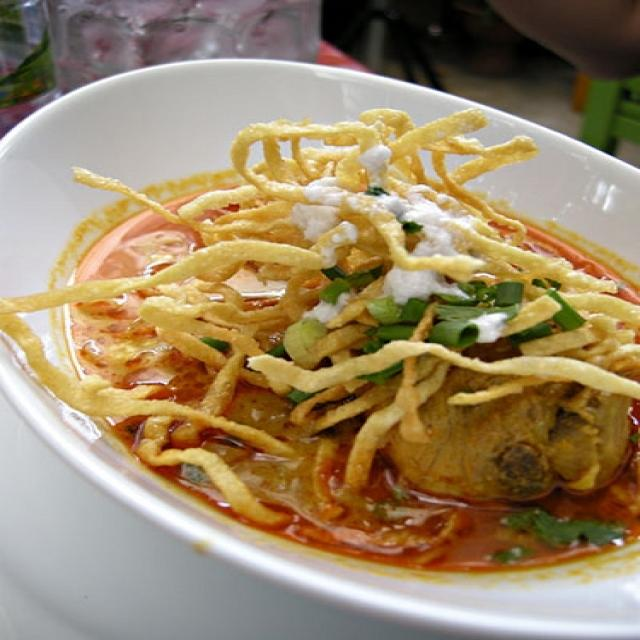面条主食: (21, 82, 636, 546)
